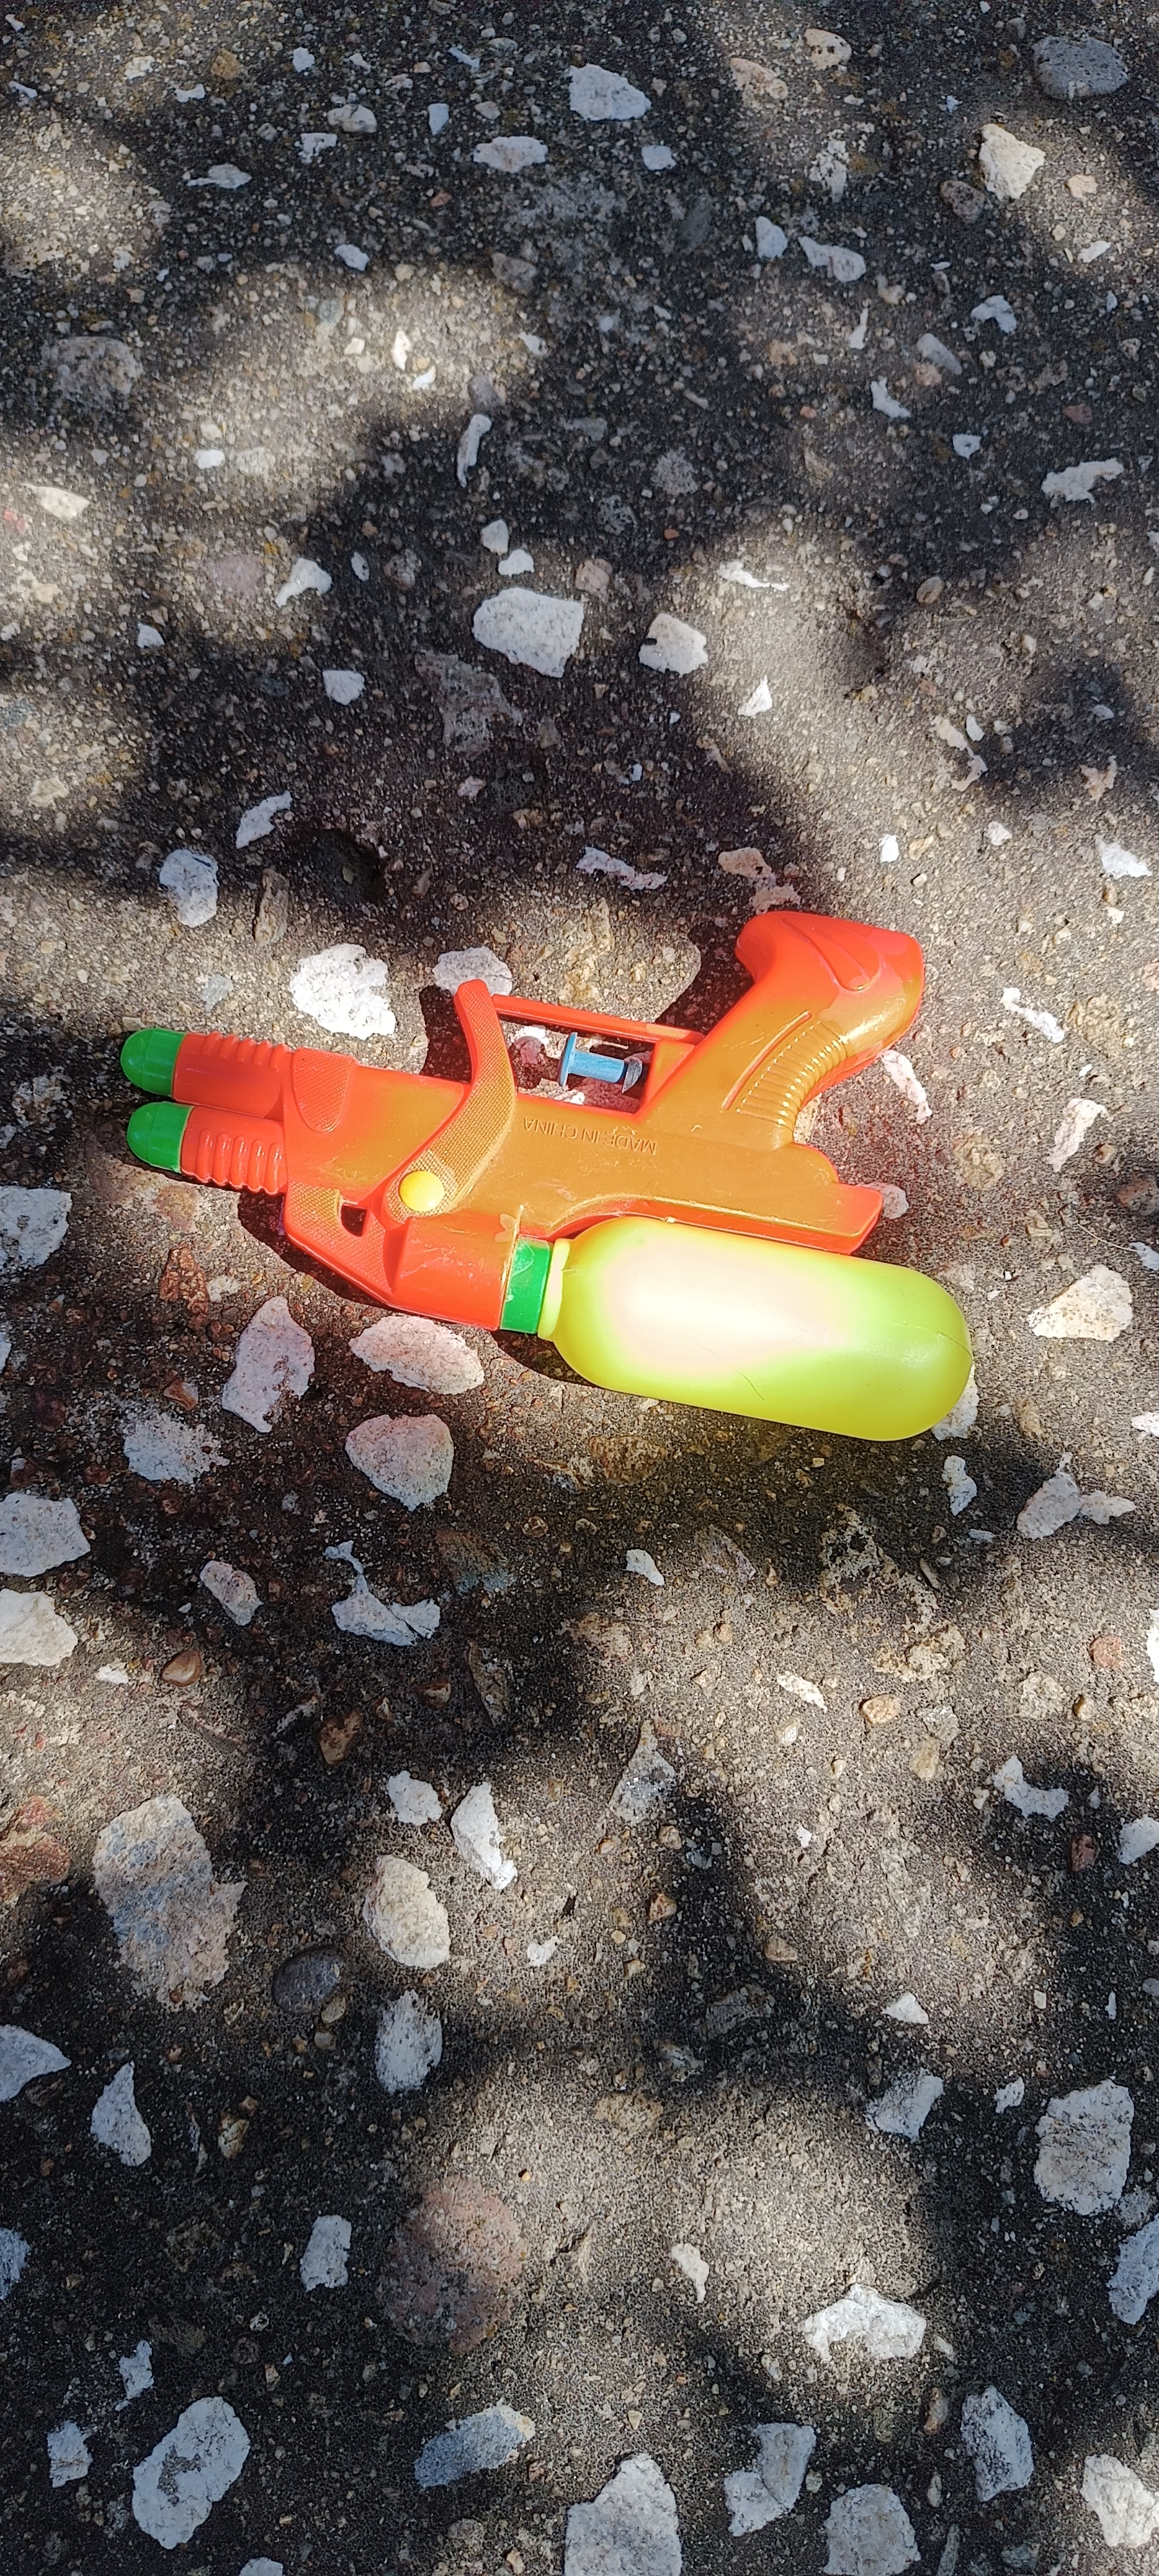Water Gun: (118, 910, 973, 1446)
